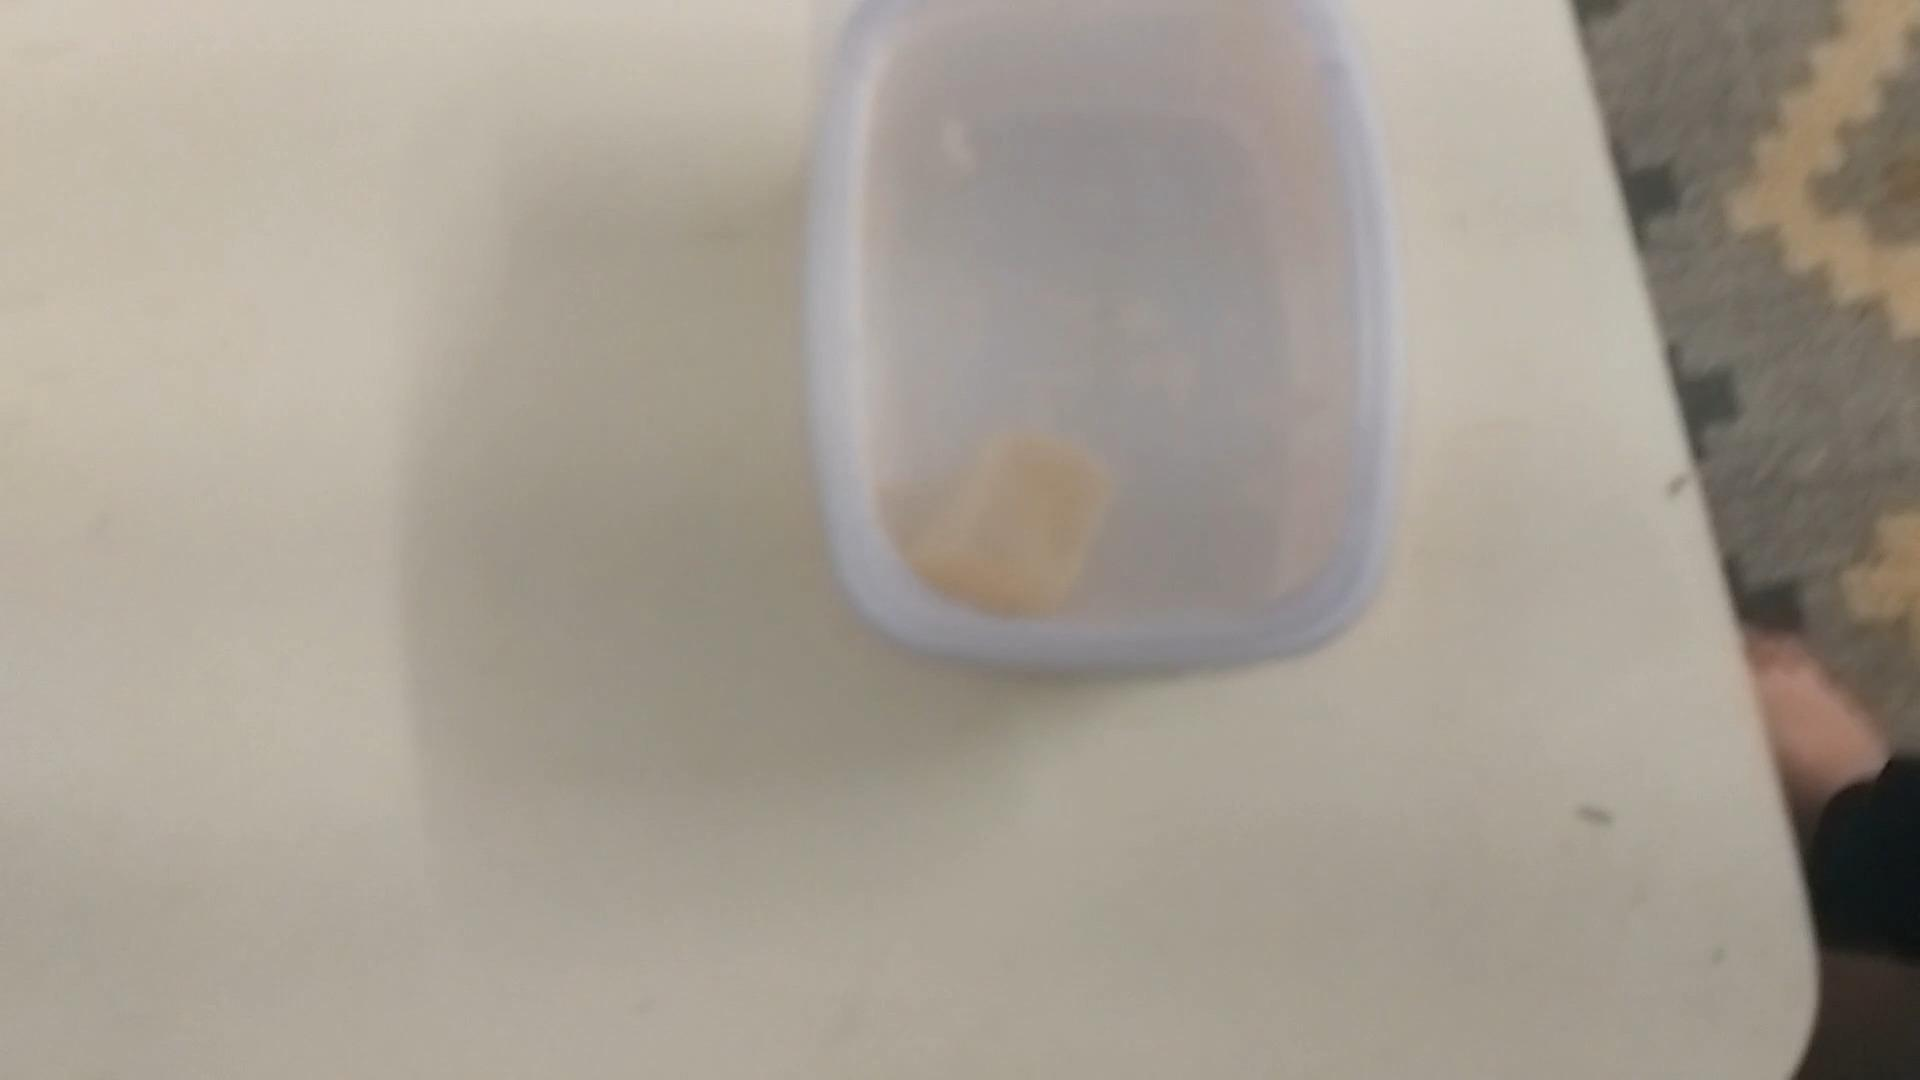butter: (820, 13, 1391, 681)
